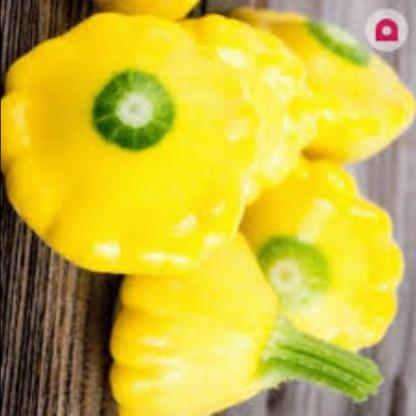squash-patisson: (1, 11, 254, 270), (101, 220, 381, 416), (238, 157, 404, 360), (249, 3, 416, 165), (200, 1, 323, 207)
